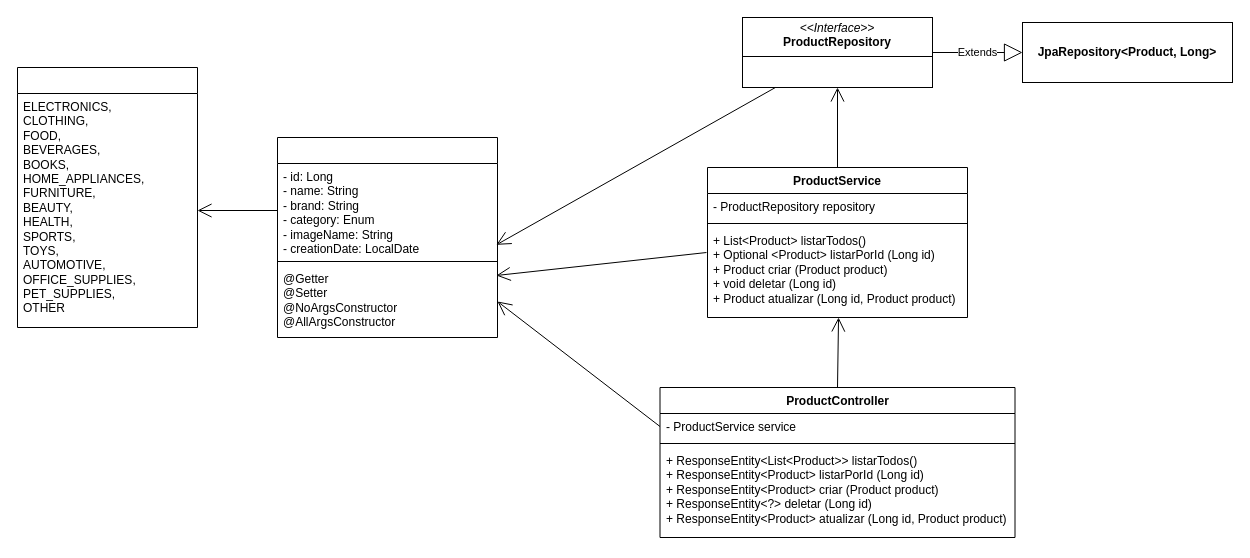
This 1250x558 diagram has some shape labels left out. The box of each missing label's shape, as (x1, y1, x2, y2) in pixels:
CategoryEnum: (16, 66, 198, 328)
Product: (276, 136, 498, 338)
